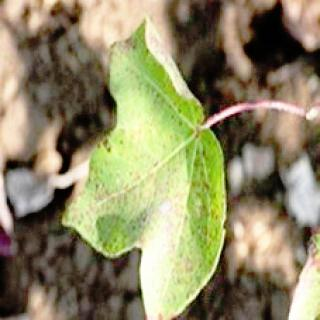leaf spot: (71, 38, 223, 304)
